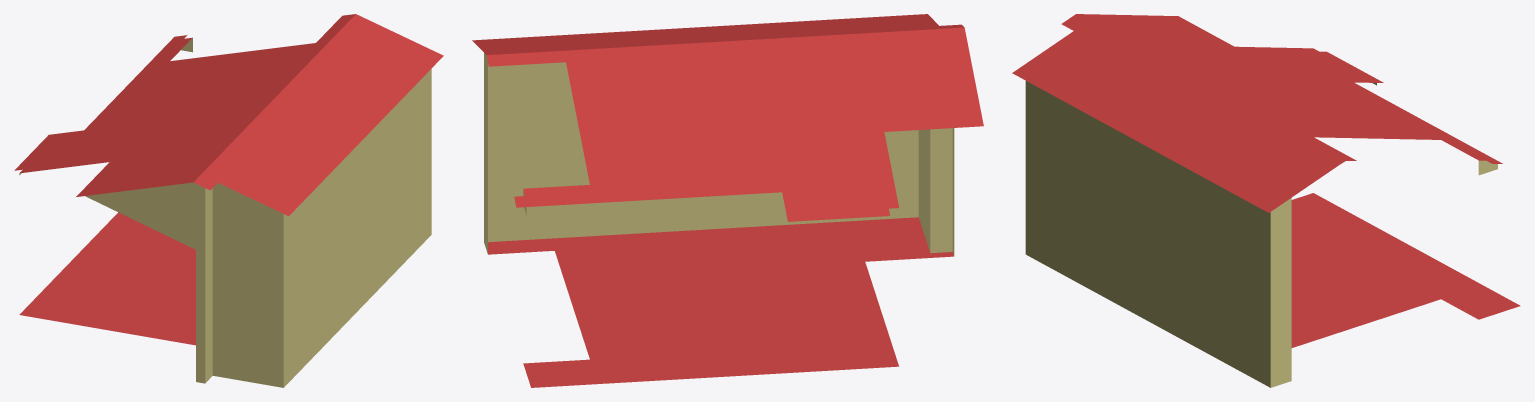
3 renders of one model, left to right at view 1: azimuth 30°, elevation 25°; view 2: azimuth 150°, elevation 25°; view 3: azimuth 270°, elevation 25°, orthographic. The views are drawn at different scales.
Size of the model in its own units: 25.17 by 26.33 by 11.86.
